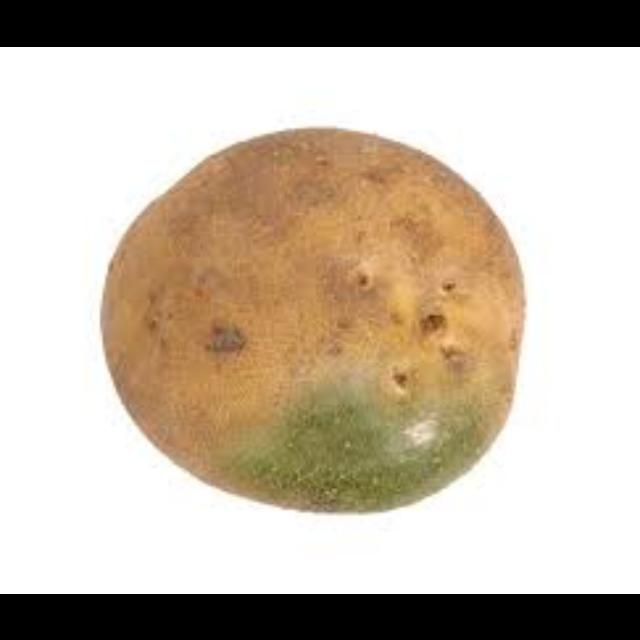Defected potato: (97, 109, 531, 544)
